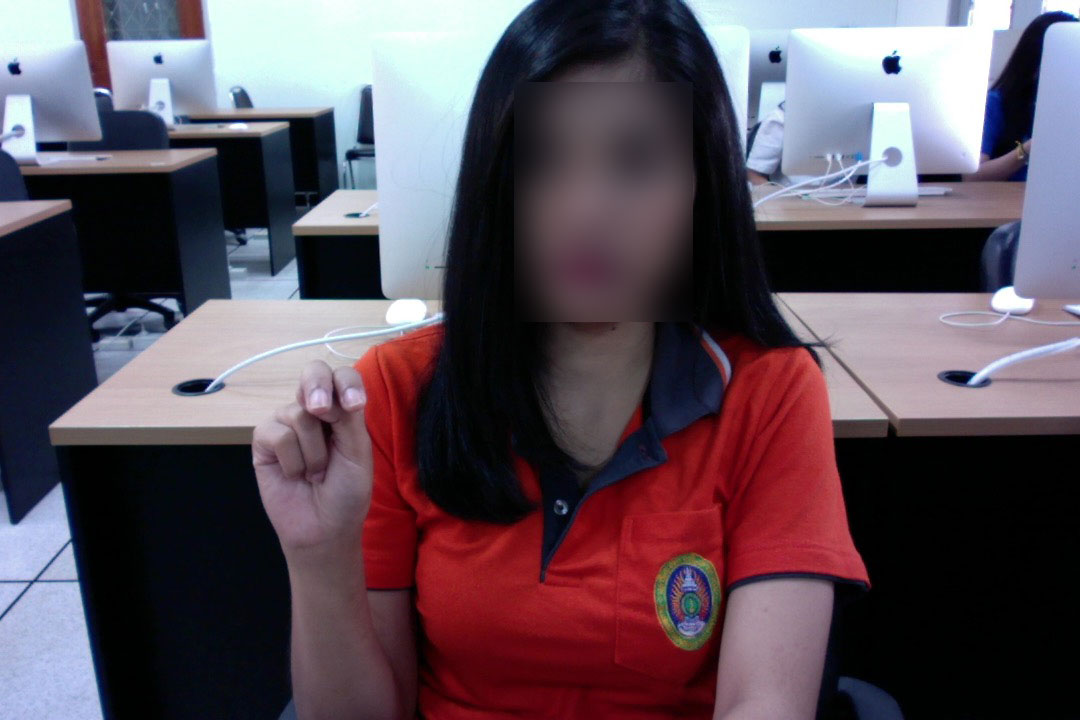nor: (247, 354, 380, 565)
